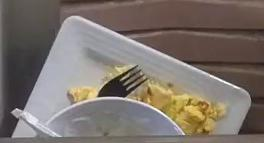scrambled_eggs: (134, 79, 225, 134)
